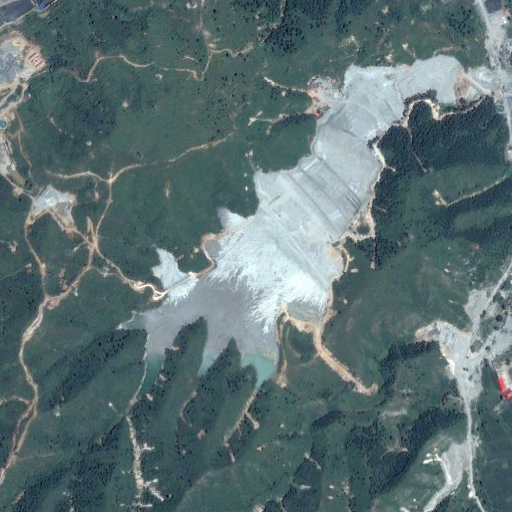tp: (118, 55, 466, 405)
